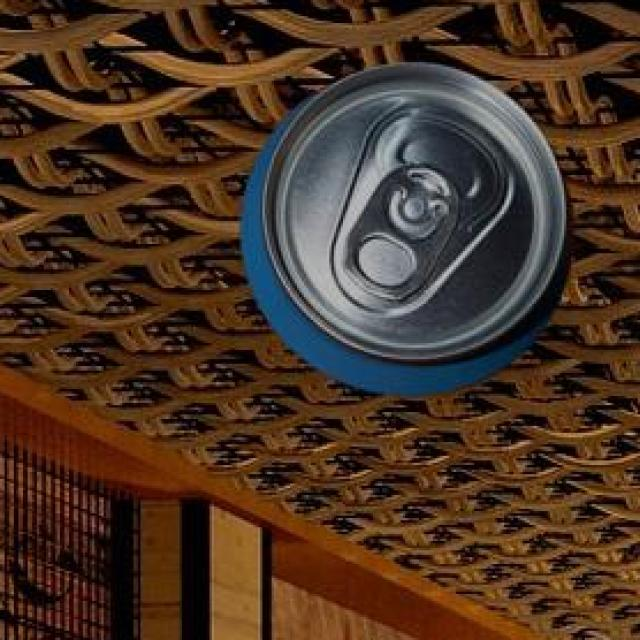logam: (238, 59, 570, 393)
